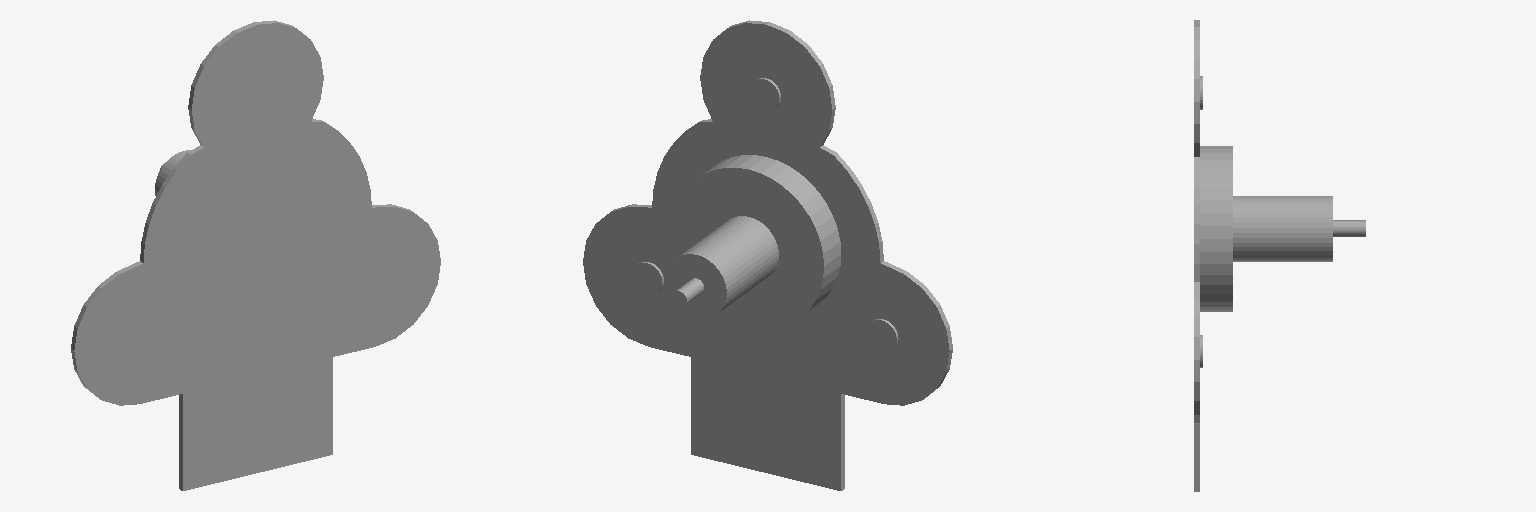
URDF robot description (ur3):
<?xml version="1.0" encoding="utf-8"?>
<!-- =================================================================================== -->
<!-- |    This document was autogenerated by xacro from [local-path]/ur3_test/src/universal_robot/ur_description/urdf/model.urdf.xacro | -->
<!-- |    EDITING THIS FILE BY HAND IS NOT RECOMMENDED                                 | -->
<!-- =================================================================================== -->
<!-- =================================================================================== -->
<!-- |    This document was autogenerated by xacro from ur3_robot.urdf.xacro           | -->
<!-- |    EDITING THIS FILE BY HAND IS NOT RECOMMENDED                                 | -->
<!-- =================================================================================== -->
<robot name="ur3">
  &gt;

  <!-- Hokuyo Laser Front-->
  <link name="ur3_laser1_link">
    <inertial>
      <mass value="1e-5"/>
      <origin rpy="0 0 0" xyz="0.0 0 0.0"/>
      <inertia ixx="1e-6" ixy="0" ixz="0" iyy="1e-6" iyz="0" izz="1e-6"/>
    </inertial>
  </link>
  <link name="ur3_laser2_link">
    <inertial>
      <mass value="1e-5"/>
      <origin rpy="0 0 0" xyz="0 0 0"/>
      <inertia ixx="1e-6" ixy="0" ixz="0" iyy="1e-6" iyz="0" izz="1e-6"/>
    </inertial>
  </link>
  <link name="ur3_laser3_link">
    <inertial>
      <mass value="1e-5"/>
      <origin rpy="0 0 0" xyz="0 0 0"/>
      <inertia ixx="1e-6" ixy="0" ixz="0" iyy="1e-6" iyz="0" izz="1e-6"/>
    </inertial>
  </link>
  <joint name="ur3_laser1_joint" type="fixed">
    <origin rpy="0 0 0" xyz="0.0 0 0.045"/>
    <axis xyz="0 1 0"/>
    <parent link="ee_link"/>
    <child link="ur3_laser1_link"/>
  </joint>
  <joint name="ur3_laser2_joint" type="fixed">
    <origin rpy="0 0 0" xyz="0 -0.03897 -0.0225"/>
    <axis xyz="0 1 0"/>
    <parent link="ee_link"/>
    <child link="ur3_laser2_link"/>
  </joint>
  <joint name="ur3_laser3_joint" type="fixed">
    <origin rpy="0 0 0" xyz="0 0.03897 -0.0225"/>
    <axis xyz="0 1 0"/>
    <parent link="ee_link"/>
    <child link="ur3_laser3_link"/>
  </joint>
  <gazebo reference="ur3_laser1_joint">
    <preserveFixedJoint>true</preserveFixedJoint>
  </gazebo>
  <gazebo reference="ur3_laser2_joint">
    <preserveFixedJoint>true</preserveFixedJoint>
  </gazebo>
  <gazebo reference="ur3_laser3_joint">
    <preserveFixedJoint>true</preserveFixedJoint>
  </gazebo>
  <!-- hokuyo -->
  <gazebo reference="ur3_laser1_link">
    <sensor name="ur3_laser_sensor1" type="gpu_ray">
      <pose>0 0 0 0 0 0</pose>
      <visualize>true</visualize>
      <update_rate>40</update_rate>
      <ray>
        <scan>
          <horizontal>
            <samples>3</samples>
            <resolution>1</resolution>
            <min_angle>-0.01</min_angle>
            <max_angle>0.01</max_angle>
          </horizontal>
        </scan>
        <range>
          <min>0.05</min>
          <max>30.0</max>
          <resolution>0.01</resolution>
        </range>
      </ray>
      <plugin filename="libgazebo_ros_gpu_laser.so" name="gazebo_ros_head_hokuyo_controller">
        <topicName>/ur3/laser1/scan</topicName>
        <frameName>ee_link</frameName>
      </plugin>
    </sensor>
  </gazebo>
  <gazebo reference="ur3_laser2_link">
    <sensor name="ur3_laser_sensor2" type="gpu_ray">
      <pose>0 0 0 0 0 0</pose>
      <visualize>true</visualize>
      <update_rate>40</update_rate>
      <ray>
        <scan>
          <horizontal>
            <samples>3</samples>
            <resolution>1</resolution>
            <min_angle>-0.01</min_angle>
            <max_angle>0.01</max_angle>
          </horizontal>
        </scan>
        <range>
          <min>0.05</min>
          <max>30.0</max>
          <resolution>0.01</resolution>
        </range>
      </ray>
      <plugin filename="libgazebo_ros_gpu_laser.so" name="gazebo_ros_head_hokuyo_controller">
        <topicName>/ur3/laser2/scan</topicName>
        <frameName>ee_link</frameName>
      </plugin>
    </sensor>
  </gazebo>
  <gazebo reference="ur3_laser3_link">
    <sensor name="ur3_laser_sensor3" type="gpu_ray">
      <pose>0 0 0 0 0 0</pose>
      <visualize>true</visualize>
      <update_rate>40</update_rate>
      <ray>
        <scan>
          <horizontal>
            <samples>3</samples>
            <resolution>1</resolution>
            <min_angle>-0.01</min_angle>
            <max_angle>0.01</max_angle>
          </horizontal>
        </scan>
        <range>
          <min>0.05</min>
          <max>30.0</max>
          <resolution>0.01</resolution>
        </range>
      </ray>
      <plugin filename="libgazebo_ros_gpu_laser.so" name="gazebo_ros_head_hokuyo_controller">
        <topicName>/ur3/laser3/scan</topicName>
        <frameName>ee_link</frameName>
      </plugin>
    </sensor>
  </gazebo>
  <!--
  Author: [author]
-->
  <!-- measured from model -->
  <link name="world"/>
  <joint name="world_to_base" type="fixed">
    <parent link="world"/>
    <child link="ur3_base_link"/>
    <origin xyz="0 0 0.5"/>
  </joint>
  <link name="ur3_base_link">
    <visual>
      <geometry>
        <mesh filename="package://ur_description/meshes/ur3/visual/base.dae"/>
      </geometry>
      <material name="LightGrey">
        <color rgba="0.7 0.7 0.7 1.0"/>
      </material>
    </visual>
    <collision>
      <geometry>
        <mesh filename="package://ur_description/meshes/ur3/collision/base.stl"/>
      </geometry>
    </collision>
    <inertial>
      <mass value="2.0"/>
      <origin rpy="0 0 0" xyz="0.0 0.0 0.0"/>
      <inertia ixx="0.0030531654454" ixy="0.0" ixz="0.0" iyy="0.0030531654454" iyz="0.0" izz="0.005625"/>
    </inertial>
  </link>
  <joint name="shoulder_link_joint" type="revolute">
    <parent link="ur3_base_link"/>
    <child link="shoulder_link"/>
    <origin rpy="0.0 0.0 0.0" xyz="0.0 0.0 0.1519"/>
    <axis xyz="0 0 1"/>
    <limit effort="330.0" lower="-6.28318530718" upper="6.28318530718" velocity="2.16"/>
    <dynamics damping="0.0" friction="0.0"/>
  </joint>
  <link name="shoulder_link">
    <visual>
      <geometry>
        <mesh filename="package://ur_description/meshes/ur3/visual/shoulder.dae"/>
      </geometry>
      <material name="LightGrey">
        <color rgba="0.7 0.7 0.7 1.0"/>
      </material>
    </visual>
    <collision>
      <geometry>
        <mesh filename="package://ur_description/meshes/ur3/collision/shoulder.stl"/>
      </geometry>
    </collision>
    <inertial>
      <mass value="2.0"/>
      <origin rpy="0 0 0" xyz="0.0 0.0 0.0"/>
      <inertia ixx="0.0080931634294" ixy="0.0" ixz="0.0" iyy="0.0080931634294" iyz="0.0" izz="0.005625"/>
    </inertial>
  </link>
  <joint name="upper_arm_link_joint" type="revolute">
    <parent link="shoulder_link"/>
    <child link="upper_arm_link"/>
    <origin rpy="0.0 1.57079632679 0.0" xyz="0.0 0.1198 0.0"/>
    <axis xyz="0 1 0"/>
    <limit effort="330.0" lower="-6.28318530718" upper="6.28318530718" velocity="2.16"/>
    <dynamics damping="0.0" friction="0.0"/>
  </joint>
  <link name="upper_arm_link">
    <visual>
      <geometry>
        <mesh filename="package://ur_description/meshes/ur3/visual/upperarm.dae"/>
      </geometry>
      <material name="LightGrey">
        <color rgba="0.7 0.7 0.7 1.0"/>
      </material>
    </visual>
    <collision>
      <geometry>
        <mesh filename="package://ur_description/meshes/ur3/collision/upperarm.stl"/>
      </geometry>
    </collision>
    <inertial>
      <mass value="3.42"/>
      <origin rpy="0 0 0" xyz="0.0 0.0 0.121825"/>
      <inertia ixx="0.0217284832211" ixy="0.0" ixz="0.0" iyy="0.0217284832211" iyz="0.0" izz="0.00961875"/>
    </inertial>
  </link>
  <joint name="forearm_link_joint" type="revolute">
    <parent link="upper_arm_link"/>
    <child link="forearm_link"/>
    <origin rpy="0.0 0.0 0.0" xyz="0.0 -0.0925 0.24365"/>
    <axis xyz="0 1 0"/>
    <limit effort="150.0" lower="-3.14159265359" upper="3.14159265359" velocity="3.15"/>
    <dynamics damping="0.0" friction="0.0"/>
  </joint>
  <link name="forearm_link">
    <visual>
      <geometry>
        <mesh filename="package://ur_description/meshes/ur3/visual/forearm.dae"/>
      </geometry>
      <material name="LightGrey">
        <color rgba="0.7 0.7 0.7 1.0"/>
      </material>
    </visual>
    <collision>
      <geometry>
        <mesh filename="package://ur_description/meshes/ur3/collision/forearm.stl"/>
      </geometry>
    </collision>
    <inertial>
      <mass value="1.26"/>
      <origin rpy="0 0 0" xyz="0.0 0.0 0.106625"/>
      <inertia ixx="0.00654680644378" ixy="0.0" ixz="0.0" iyy="0.00654680644378" iyz="0.0" izz="0.00354375"/>
    </inertial>
  </link>
  <joint name="wrist_1_joint" type="revolute">
    <parent link="forearm_link"/>
    <child link="wrist_1_link"/>
    <origin rpy="0.0 1.57079632679 0.0" xyz="0.0 0.0 0.21325"/>
    <axis xyz="0 1 0"/>
    <limit effort="54.0" lower="-6.28318530718" upper="6.28318530718" velocity="3.2"/>
    <dynamics damping="0.0" friction="0.0"/>
  </joint>
  <link name="wrist_1_link">
    <visual>
      <geometry>
        <mesh filename="package://ur_description/meshes/ur3/visual/wrist1.dae"/>
      </geometry>
      <material name="LightGrey">
        <color rgba="0.7 0.7 0.7 1.0"/>
      </material>
    </visual>
    <collision>
      <geometry>
        <mesh filename="package://ur_description/meshes/ur3/collision/wrist1.stl"/>
      </geometry>
    </collision>
    <inertial>
      <mass value="0.8"/>
      <origin rpy="0 0 0" xyz="0.0 0.08505 0.0"/>
      <inertia ixx="0.002084999166" ixy="0.0" ixz="0.0" iyy="0.002084999166" iyz="0.0" izz="0.00225"/>
    </inertial>
  </link>
  <joint name="wrist_2_joint" type="revolute">
    <parent link="wrist_1_link"/>
    <child link="wrist_2_link"/>
    <origin rpy="0.0 0.0 0.0" xyz="0.0 0.08505 0.0"/>
    <axis xyz="0 0 1"/>
    <limit effort="54.0" lower="-6.28318530718" upper="6.28318530718" velocity="3.2"/>
    <dynamics damping="0.0" friction="0.0"/>
  </joint>
  <link name="wrist_2_link">
    <visual>
      <geometry>
        <mesh filename="package://ur_description/meshes/ur3/visual/wrist2.dae"/>
      </geometry>
      <material name="LightGrey">
        <color rgba="0.7 0.7 0.7 1.0"/>
      </material>
    </visual>
    <collision>
      <geometry>
        <mesh filename="package://ur_description/meshes/ur3/collision/wrist2.stl"/>
      </geometry>
    </collision>
    <inertial>
      <mass value="0.8"/>
      <origin rpy="0 0 0" xyz="0.0 0.0 0.08535"/>
      <inertia ixx="0.002084999166" ixy="0.0" ixz="0.0" iyy="0.002084999166" iyz="0.0" izz="0.00225"/>
    </inertial>
  </link>
  <joint name="wrist_3_joint" type="revolute">
    <parent link="wrist_2_link"/>
    <child link="wrist_3_link"/>
    <origin rpy="0.0 0.0 0.0" xyz="0.0 0.0 0.08535"/>
    <axis xyz="0 1 0"/>
    <limit effort="54.0" lower="-6.28318530718" upper="6.28318530718" velocity="3.2"/>
    <dynamics damping="0.0" friction="0.0"/>
  </joint>
  <link name="wrist_3_link">
    <visual>
      <geometry>
        <mesh filename="package://ur_description/meshes/ur3/visual/wrist3.dae"/>
      </geometry>
      <material name="LightGrey">
        <color rgba="0.7 0.7 0.7 1.0"/>
      </material>
    </visual>
    <collision>
      <geometry>
        <mesh filename="package://ur_description/meshes/ur3/collision/wrist3.stl"/>
      </geometry>
    </collision>
    <inertial>
      <mass value="0.35"/>
      <origin rpy="1.57079632679 0 0" xyz="0.0 0.0619 0.0"/>
      <inertia ixx="0.00013626661216" ixy="0.0" ixz="0.0" iyy="0.00013626661216" iyz="0.0" izz="0.0001792"/>
    </inertial>
  </link>
  <joint name="ee_fixed_joint" type="fixed">
    <parent link="wrist_3_link"/>
    <child link="ee_link"/>
    <origin rpy="0 3.14159265359 -1.57079632679" xyz="0.0 0.0819 0.0"/>
    <!-- 3.14159265359 -1.57079632679-->
  </joint>
  <link name="ee_link">
    <visual>
      <origin rpy="0 -1.57079632679 0" xyz="0 0 0"/>
      <geometry>
        <mesh filename="package://ur_description/meshes/ur3/visual/RANGE_SENSOR.dae"/>
      </geometry>
      <material name="LightGrey">
        <color rgba="0.7 0.7 0.7 1.0"/>
      </material>
    </visual>
    <!--     <collision>
      <geometry>
        <mesh filename="package://ur_description/meshes/ur3/collision/RANGE_SENSOR.dae"/>
      </geometry>
    </collision> -->
    <collision>
      <geometry>
        <box size="0.01 0.01 0.01"/>
      </geometry>
      <origin rpy="0 0 0" xyz="-0.01 0 0"/>
    </collision>
    <inertial>
      <mass value="2.0"/>
      <origin rpy="0 0 0" xyz="0.0 0.0 0.0"/>
      <inertia ixx="0.1" ixy="0.0" ixz="0.0" iyy="0.1" iyz="0.0" izz="0.1"/>
    </inertial>
  </link>
  <transmission name="shoulder_link_trans">
    <type>transmission_interface/SimpleTransmission</type>
    <joint name="shoulder_link_joint">
      <hardwareInterface>hardware_interface/PositionJointInterface</hardwareInterface>
    </joint>
    <actuator name="shoulder_link_motor">
      <mechanicalReduction>1</mechanicalReduction>
    </actuator>
  </transmission>
  <transmission name="upper_arm_link_trans">
    <type>transmission_interface/SimpleTransmission</type>
    <joint name="upper_arm_link_joint">
      <hardwareInterface>hardware_interface/PositionJointInterface</hardwareInterface>
    </joint>
    <actuator name="upper_arm_link_motor">
      <mechanicalReduction>1</mechanicalReduction>
    </actuator>
  </transmission>
  <transmission name="forearm_link_trans">
    <type>transmission_interface/SimpleTransmission</type>
    <joint name="forearm_link_joint">
      <hardwareInterface>hardware_interface/PositionJointInterface</hardwareInterface>
    </joint>
    <actuator name="forearm_link_motor">
      <mechanicalReduction>1</mechanicalReduction>
    </actuator>
  </transmission>
  <transmission name="wrist_1_trans">
    <type>transmission_interface/SimpleTransmission</type>
    <joint name="wrist_1_joint">
      <hardwareInterface>hardware_interface/PositionJointInterface</hardwareInterface>
    </joint>
    <actuator name="wrist_1_motor">
      <mechanicalReduction>1</mechanicalReduction>
    </actuator>
  </transmission>
  <transmission name="wrist_2_trans">
    <type>transmission_interface/SimpleTransmission</type>
    <joint name="wrist_2_joint">
      <hardwareInterface>hardware_interface/PositionJointInterface</hardwareInterface>
    </joint>
    <actuator name="wrist_2_motor">
      <mechanicalReduction>1</mechanicalReduction>
    </actuator>
  </transmission>
  <transmission name="wrist_3_trans">
    <type>transmission_interface/SimpleTransmission</type>
    <joint name="wrist_3_joint">
      <hardwareInterface>hardware_interface/PositionJointInterface</hardwareInterface>
    </joint>
    <actuator name="wrist_3_motor">
      <mechanicalReduction>1</mechanicalReduction>
    </actuator>
  </transmission>
  <gazebo reference="base">
    <selfCollide>true</selfCollide>
  </gazebo>
  <gazebo reference="ur3_base_link">
    <selfCollide>true</selfCollide>
  </gazebo>
  <gazebo reference="shoulder_link">
    <selfCollide>true</selfCollide>
  </gazebo>
  <gazebo reference="upper_arm_link">
    <selfCollide>true</selfCollide>
  </gazebo>
  <gazebo reference="forearm_link">
    <selfCollide>true</selfCollide>
  </gazebo>
  <gazebo reference="wrist_1_link">
    <selfCollide>true</selfCollide>
  </gazebo>
  <gazebo reference="wrist_3_link">
    <selfCollide>true</selfCollide>
  </gazebo>
  <gazebo reference="wrist_2_link">
    <selfCollide>true</selfCollide>
  </gazebo>
  <gazebo reference="ee_link">
    <selfCollide>true</selfCollide>
  </gazebo>
  <gazebo reference="ee_fixed_joint">
    <preserveFixedJoint>true</preserveFixedJoint>
  </gazebo>
  <!-- ROS ur3_base_link to UR 'Base' Coordinates transform -->
  <!--   <link name="base">
    <inertial>
      <mass value="2.0"/>
      <origin rpy="0 0 0" xyz="0.0 0.0 0.0"/>
      <inertia ixx="0.1" ixy="0.0" ixz="0.0" iyy="0.1" iyz="0.0" izz="0.1"/>
    </inertial>
  </link>
  <joint name="ur3_base_link-base_fixed_joint" type="fixed">

    <origin rpy="0 0 -3.14159265359" xyz="0 0 0"/>
    <parent link="ur3_base_link"/>
    <child link="base"/>
  </joint> -->
  <!-- Frame coincident with all-zeros TCP on UR controller -->
  <link name="tool0">
    <inertial>
      <mass value="2.0"/>
      <origin rpy="0 0 0" xyz="0.0 0.0 0.0"/>
      <inertia ixx="0.1" ixy="0.0" ixz="0.0" iyy="0.1" iyz="0.0" izz="0.1"/>
    </inertial>
  </link>
  <joint name="wrist_3_link-tool0_fixed_joint" type="fixed">
    <origin rpy="-1.57079632679 0 0" xyz="0 0.0819 0"/>
    <parent link="wrist_3_link"/>
    <child link="tool0"/>
  </joint>
  <!--   <link name="mount_base">
    <inertial>
      <mass value="2.0"/>
      <origin rpy="0 0 0" xyz="0.0 0.0 0.0"/>
      <inertia ixx="0.1" ixy="0.0" ixz="0.0" iyy="0.1" iyz="0.0" izz="0.1"/>
    </inertial>

    <visual>
      <origin rpy="0 0 0" xyz="0.0 0.0 0.344"/>
      <geometry>
        <box size="0.3 0.2 0.668"/>
      </geometry>
    </visual>
  </link>

  
  <gazebo reference="mount_base">
    <selfCollide>true</selfCollide>
    <preserveFixedJoint>true</preserveFixedJoint>
  </gazebo>

    <joint name="ur3_base_link_joint" type="fixed">
    <parent link="mount_base"/>
    <child link="ur3_base_link"/>
    <origin rpy="0.0 0.0 0.0" xyz="0.0 0.0 0.688"/>
  </joint> -->
</robot>

--- Facts derived from the render (not from the file) ---
Views: 3 orthographic renders of the robot side by side, from view 1: azimuth 30°, elevation 25°; view 2: azimuth 150°, elevation 25°; view 3: azimuth 270°, elevation 25°.
Robot: ur3 — 13 links, 12 joints (6 revolute, 6 fixed); root link world; default pose: all joints at 0.
Visible links, largest first — view 1: ee_link; view 2: ee_link; view 3: ee_link.
Link boxes in pixels (x1,y1,x2,y2): ee_link: (71, 20, 440, 490); ee_link: (583, 20, 952, 490); ee_link: (1194, 20, 1365, 491).
Size in the robot's own frame: 0.1219 by 0.052 by 0.1425 metres.
Meshes: 8 distinct files referenced, 1 mesh visuals loaded (1 Collada DAE); not drawn: 7 (reference not matched to a file when rendering).